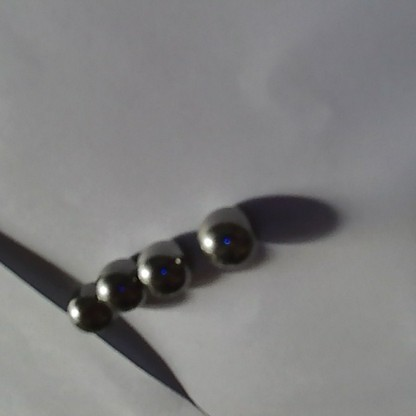ironball: (194, 206, 259, 270), (136, 237, 192, 299), (94, 258, 140, 310), (63, 296, 106, 329)
